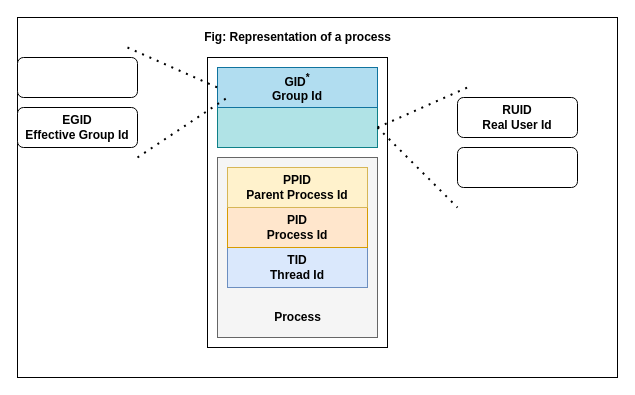
Image size: 635x395. Some labels were removed from this diagram. The box of each missing label's shape, as (x1, y1, x2, y2) in pixels:
EUID Effective User Id: (456, 146, 578, 188)
RGID Real Group Id: (16, 56, 138, 98)
UID * User Id: (216, 106, 378, 148)
